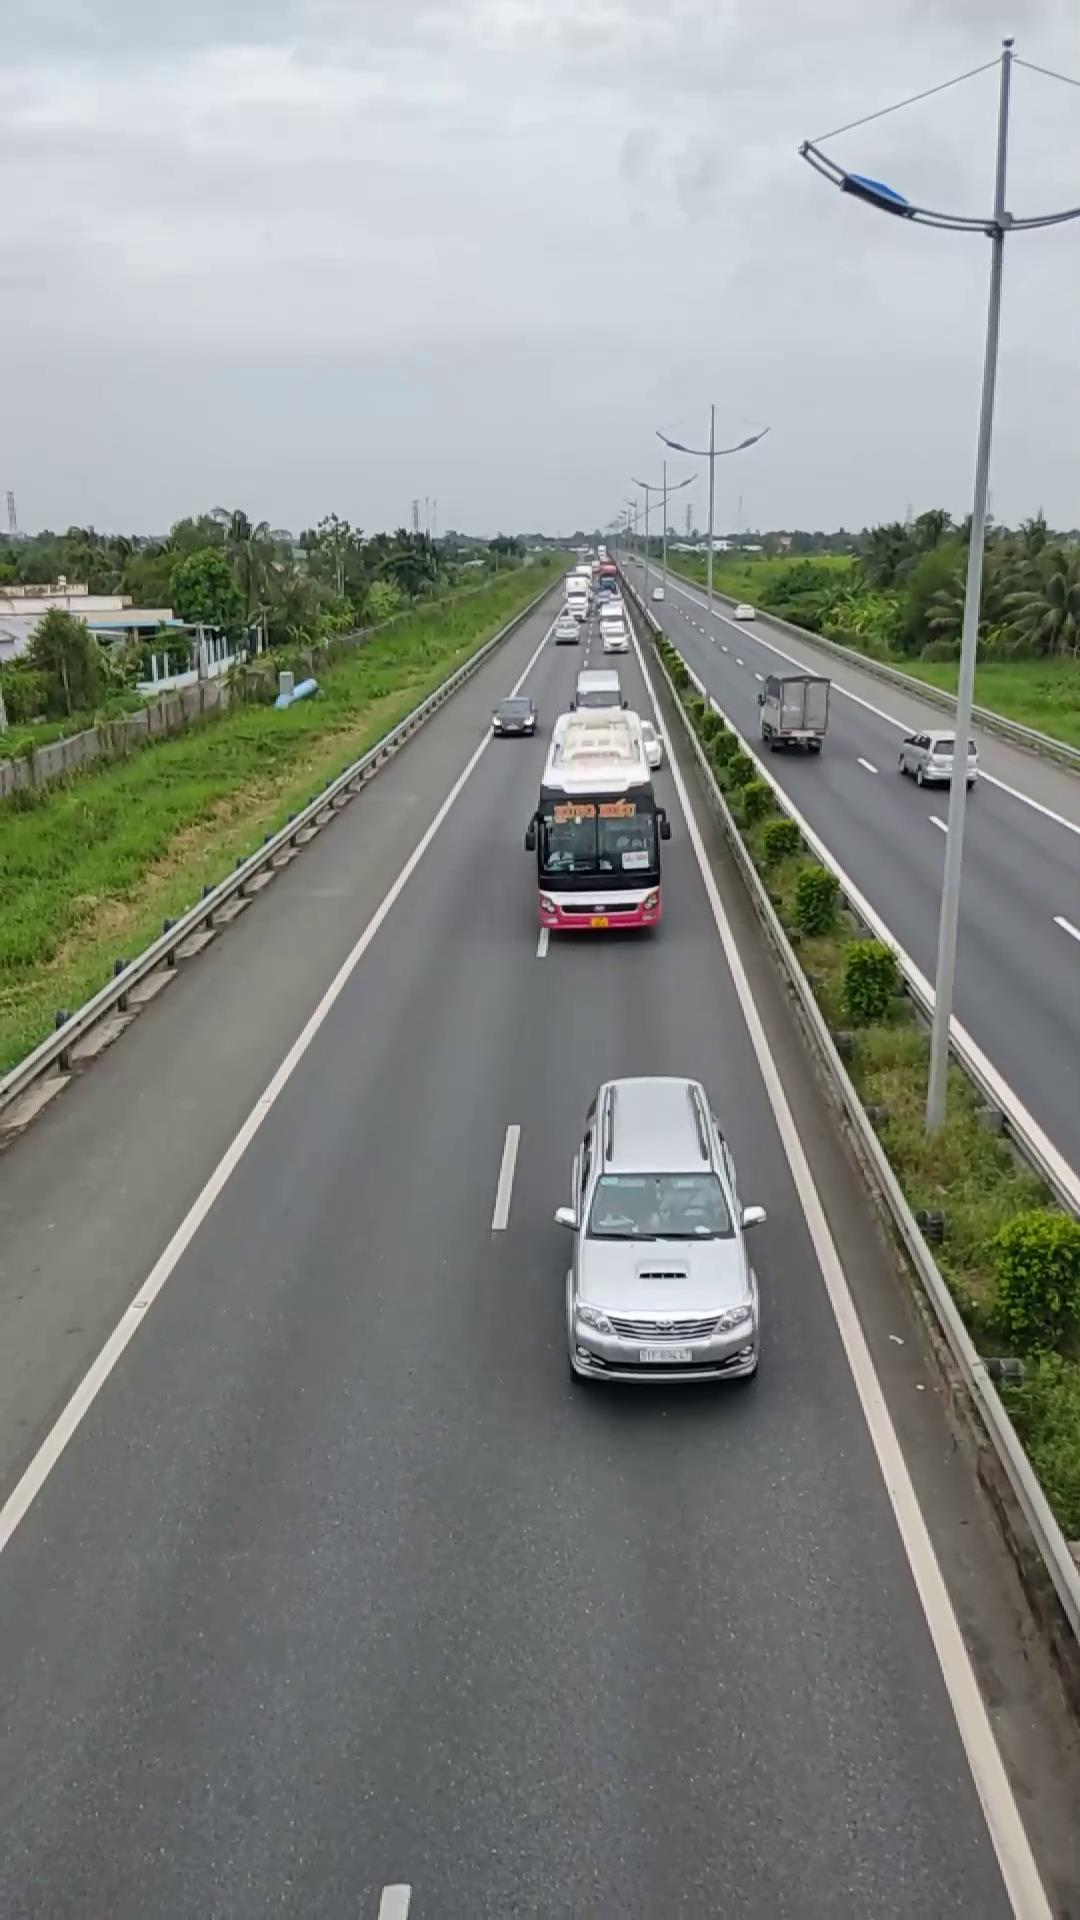bus: (526, 709, 669, 938)
car: (556, 1072, 767, 1387)
truck: (756, 665, 831, 752)
